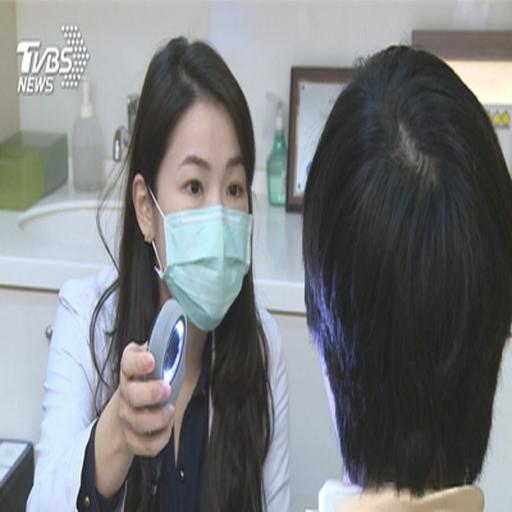mask: (153, 202, 262, 326)
